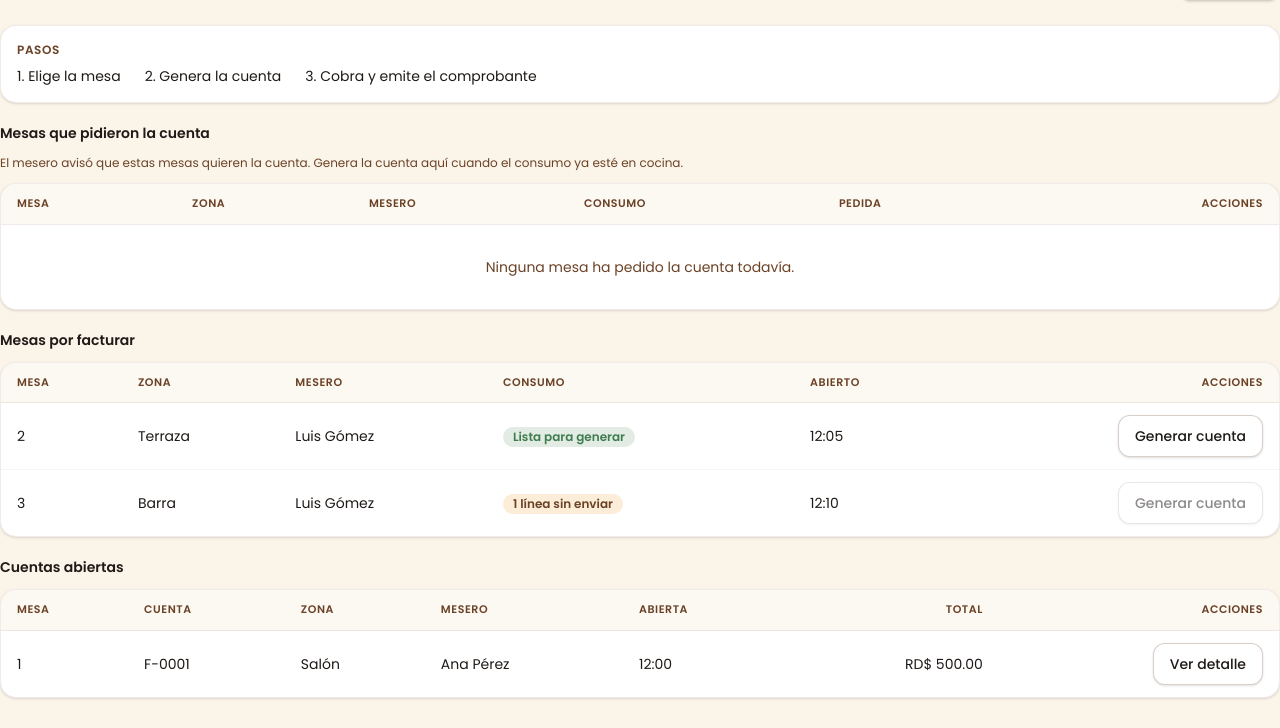
Test case: Cuentas — generar › genera la cuenta y pinta el resultado que devolvió el servidor
The width and height of the screenshot is (1280, 728).
Click the button with aria-label "Generar la cuenta de la mesa 2" at (1190, 436), box [1118,415,1263,457]
(page scrolled)
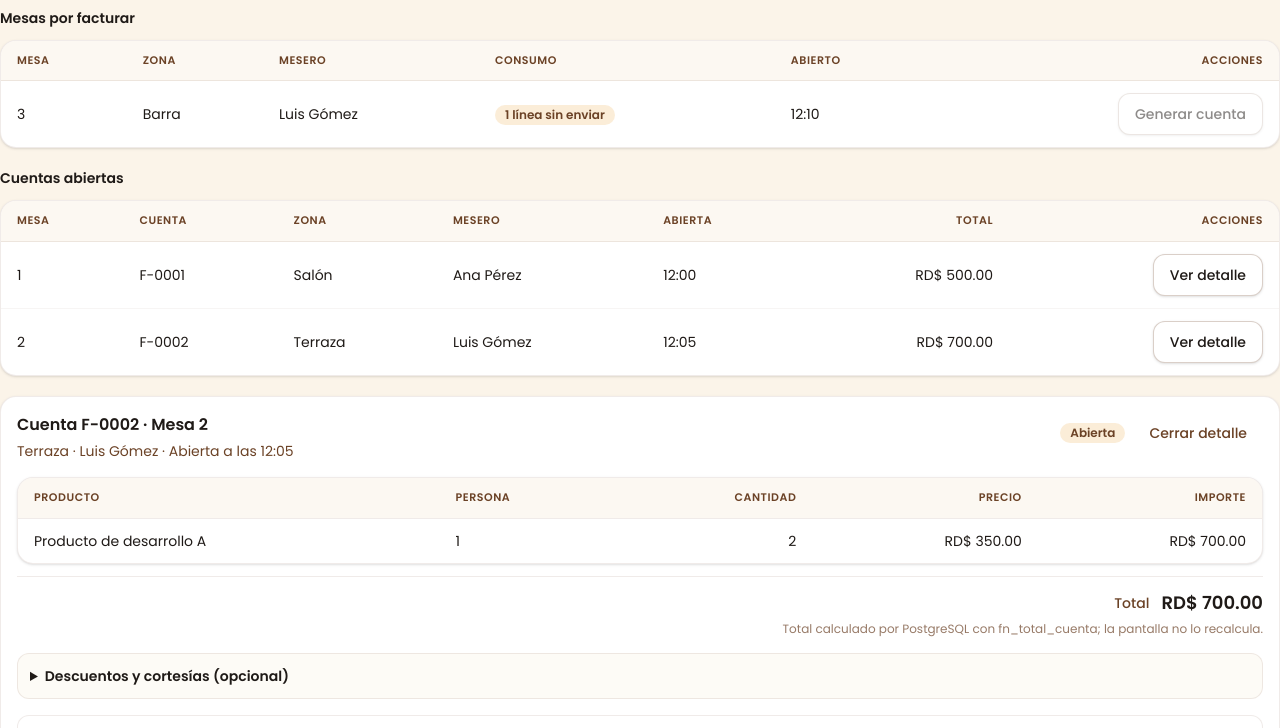
Expected: the heading "Cuenta F-0002 · Mesa 2" is shown, [17,413,208,436]
Expected: the text "RD$ 700.00" below "12:00" is shown, [916,332,993,352]
